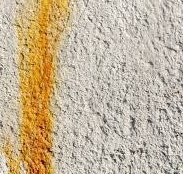Corrosion: (18, 1, 73, 174), (1, 135, 18, 174)
